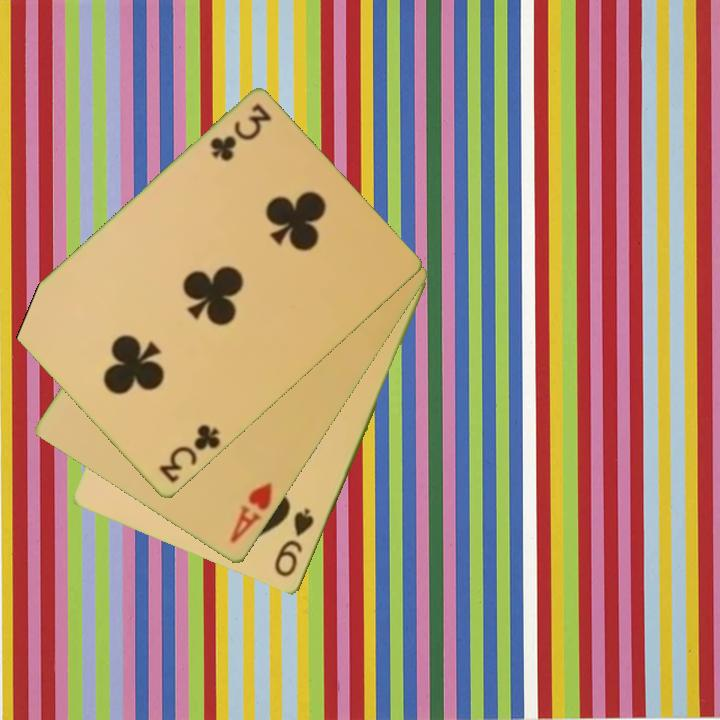3c: (155, 421, 224, 487), (206, 100, 275, 165)
9s: (271, 505, 317, 581)
Ah: (226, 479, 276, 546)
